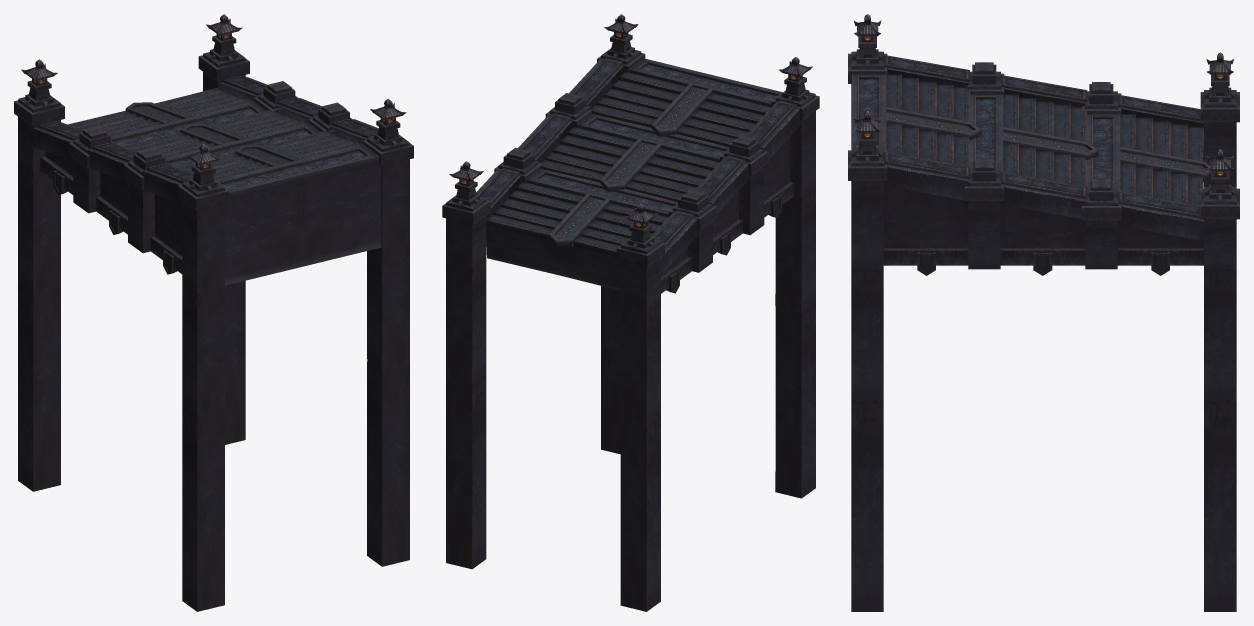
Rendered from milao_xianjieqiao_04.FBX.
3 renders of one model, left to right at view 1: azimuth 30°, elevation 25°; view 2: azimuth 150°, elevation 25°; view 3: azimuth 270°, elevation 25°, orthographic. The views are drawn at different scales.
Visible parts, largest first — view 1: milao_xianjieqiao_04; view 2: milao_xianjieqiao_04; view 3: milao_xianjieqiao_04.
Part boxes in pixels (<box>): milao_xianjieqiao_04: <box>14,14,413,611</box>; milao_xianjieqiao_04: <box>442,14,819,611</box>; milao_xianjieqiao_04: <box>848,14,1239,611</box>.
Size of the model in its own units: 20.09 by 40.52 by 29.13.
1 material, 1 textured.
